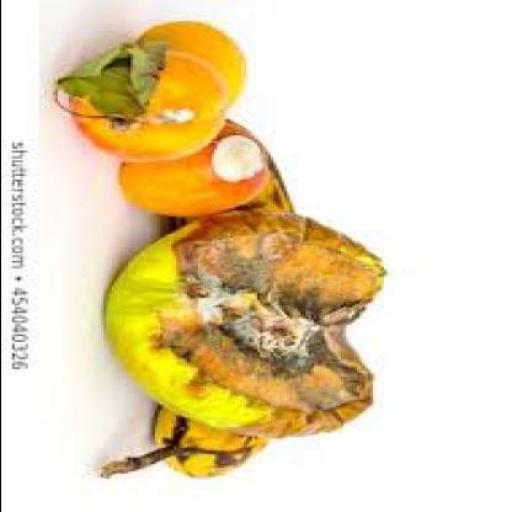biodegradable: (105, 131, 294, 476), (108, 207, 390, 438), (78, 48, 232, 159), (121, 119, 269, 213), (135, 20, 250, 106), (62, 38, 164, 118)
